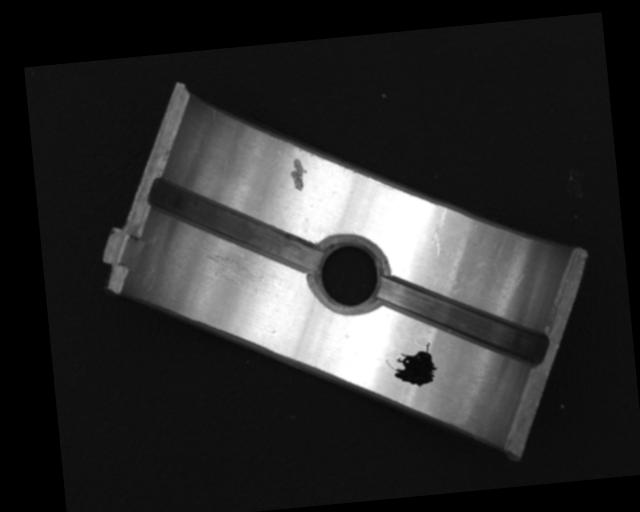blot: (385, 341, 440, 390)
bruise: (287, 156, 309, 194)
gap: (151, 167, 319, 285), (378, 268, 548, 380)
hole: (305, 234, 391, 319)
nick: (425, 207, 452, 256)
scratch: (197, 245, 271, 297)
